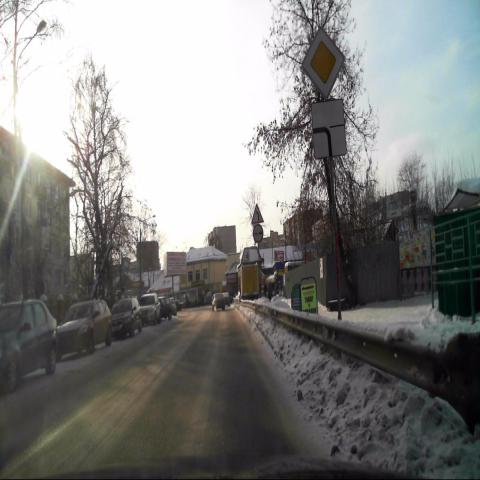8_13: (311, 98, 347, 160)
